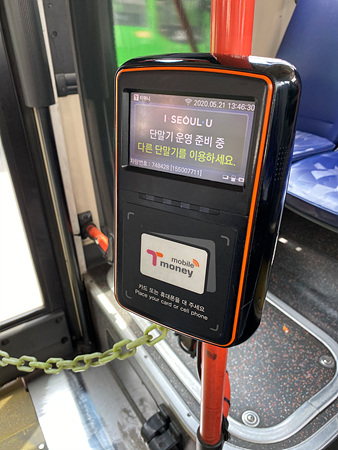terminal: (116, 52, 276, 345)
